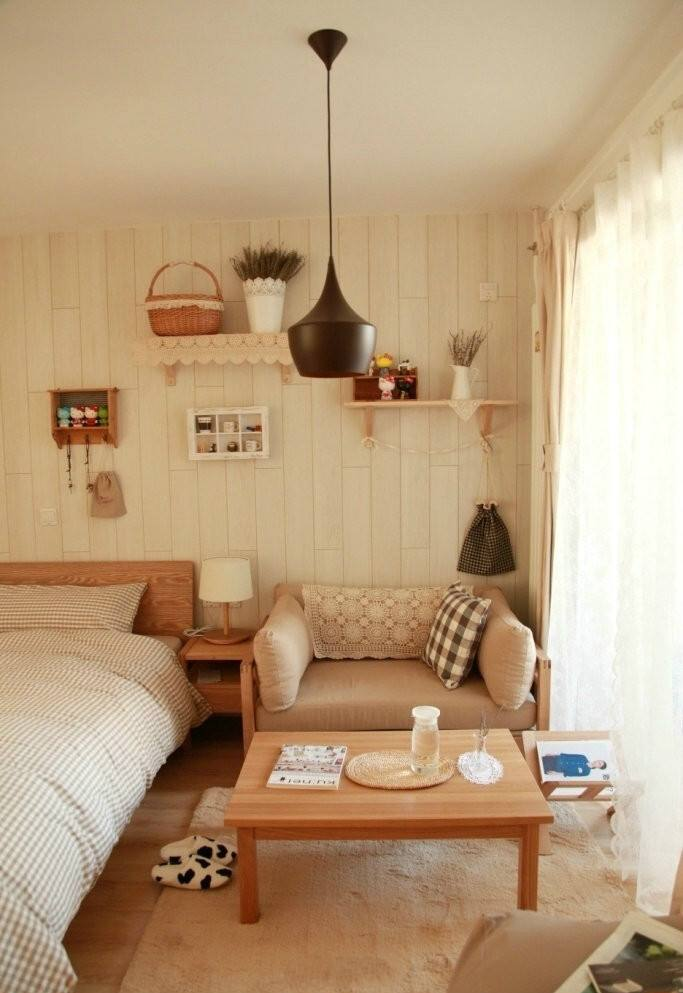床: (0, 609, 189, 918)
枕头: (3, 584, 148, 642), (418, 585, 492, 693)
灯: (285, 28, 382, 385), (193, 556, 248, 645)
